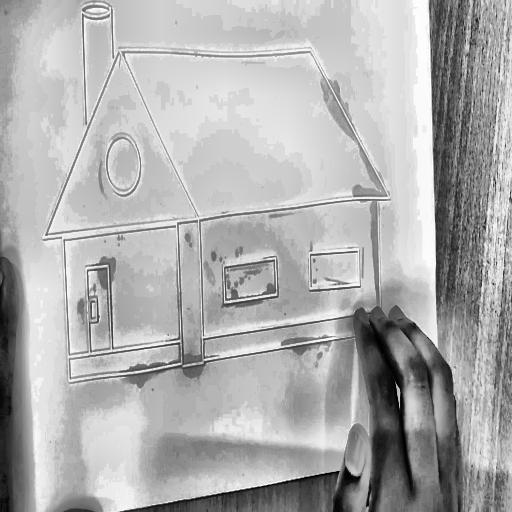bottom_right: (441, 442, 450, 457)
house: (20, 0, 411, 412)
